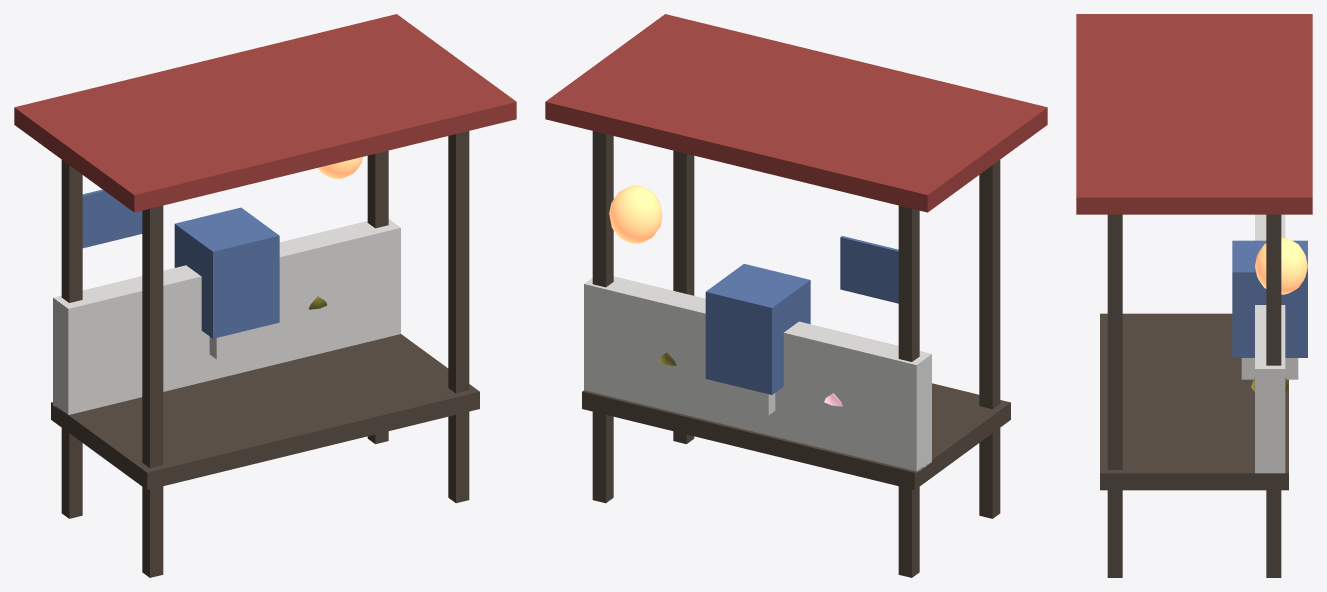
Rendered from prop_yatai_kakigori.glb.
3 renders of one model, left to right at view 1: azimuth 30°, elevation 25°; view 2: azimuth 150°, elevation 25°; view 3: azimuth 270°, elevation 25°, orthographic.
Visible parts, largest first — view 1: yatai_kakigori; view 2: yatai_kakigori; view 3: yatai_kakigori.
Boxes of the visible parts, bbox=[...] form: yatai_kakigori: bbox=[14, 14, 516, 577]; yatai_kakigori: bbox=[545, 14, 1047, 577]; yatai_kakigori: bbox=[1076, 14, 1312, 577].
Bounding box in the file's own units: 2.3 × 2.31 × 1.25.
